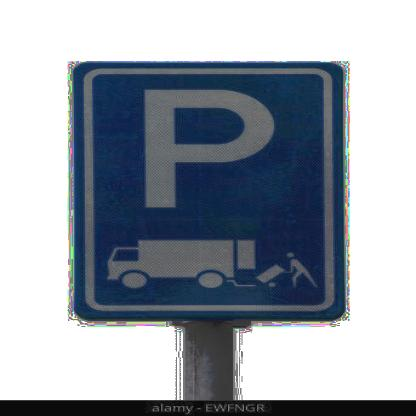Parking: (68, 54, 332, 322)
